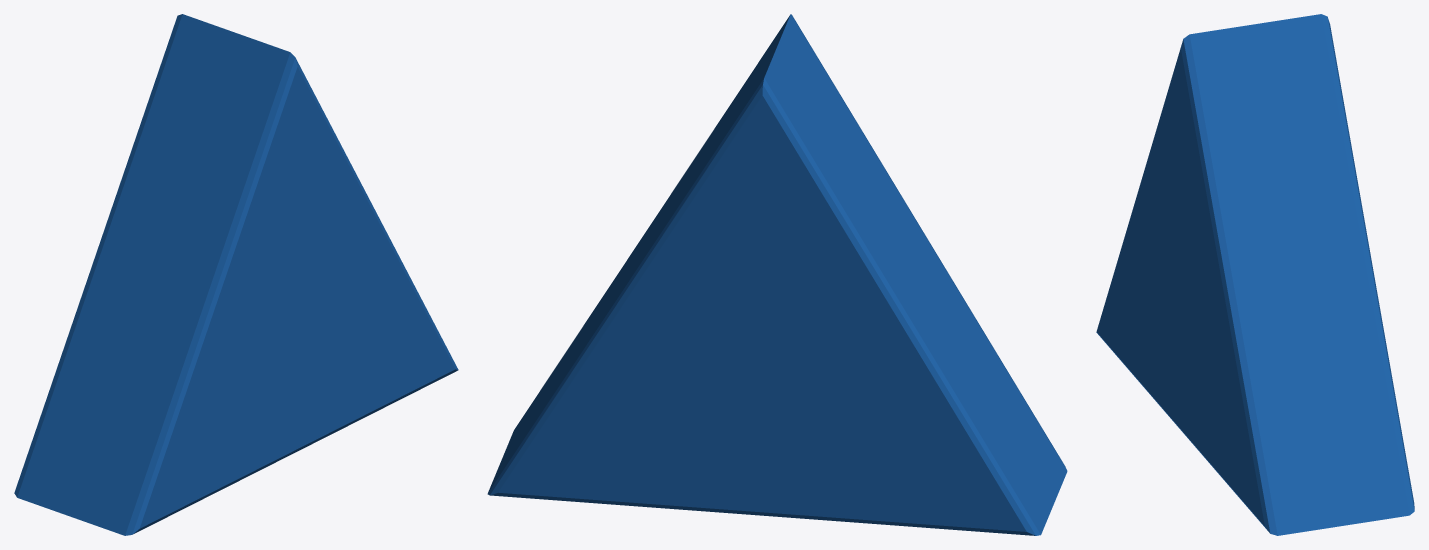
File: prism.glb
The picture shows the model from 3 angles, left to right: view 1: azimuth 30°, elevation 25°; view 2: azimuth 150°, elevation 25°; view 3: azimuth 270°, elevation 25°; orthographic projection. The views are drawn at different scales.
Parts seen in each view (by area): view 1: prism; view 2: prism; view 3: prism.
Boxes of the visible parts, x1,y1,x2,y2 form: prism: (14,14,458,535); prism: (487,14,1067,535); prism: (1096,14,1414,535).
Size of the model in its own units: 2.27 by 1.88 by 1.36.
